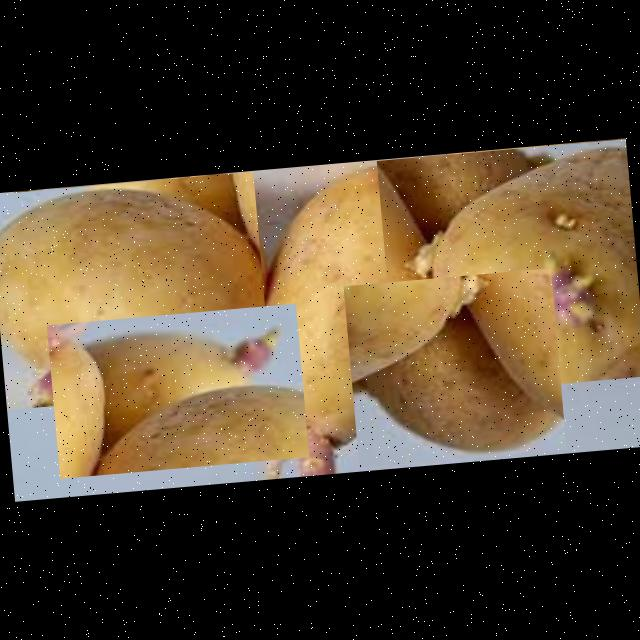Potato: (343, 268, 566, 467)
Sprouted potato: (224, 164, 469, 480), (376, 138, 640, 397), (0, 171, 271, 409), (46, 303, 308, 478)
